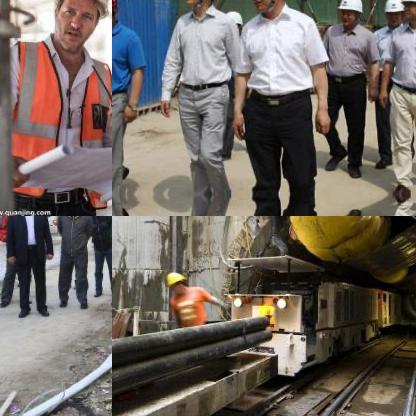Helmet: (38, 0, 111, 58), (336, 0, 365, 26), (379, 0, 403, 25), (164, 269, 188, 292), (245, 0, 289, 11), (183, 0, 224, 10), (402, 0, 415, 19)
